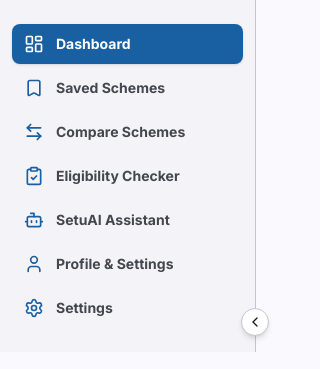
Test: icon-only buttons have a name screen readers read (en) › the sidebar collapse button says which way it goes
What coordinates should you click on to do the following:
click the button named "Collapse sidebar"
I would click on:
 (255, 322)
Its box is [241, 308, 269, 336].
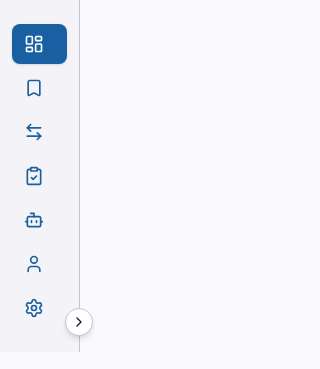
Result: the button named "Expand sidebar" is collapsed at [65, 308, 93, 336]
